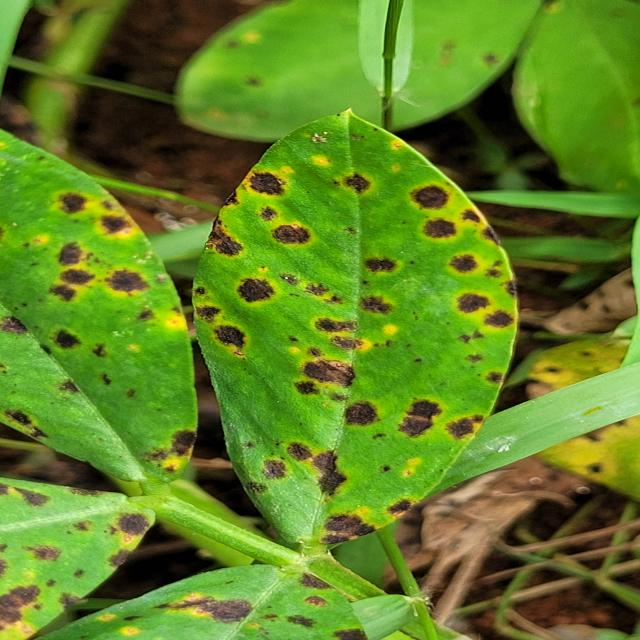Ground nut_tikka leaf spot: (184, 103, 528, 547), (1, 136, 208, 516)
